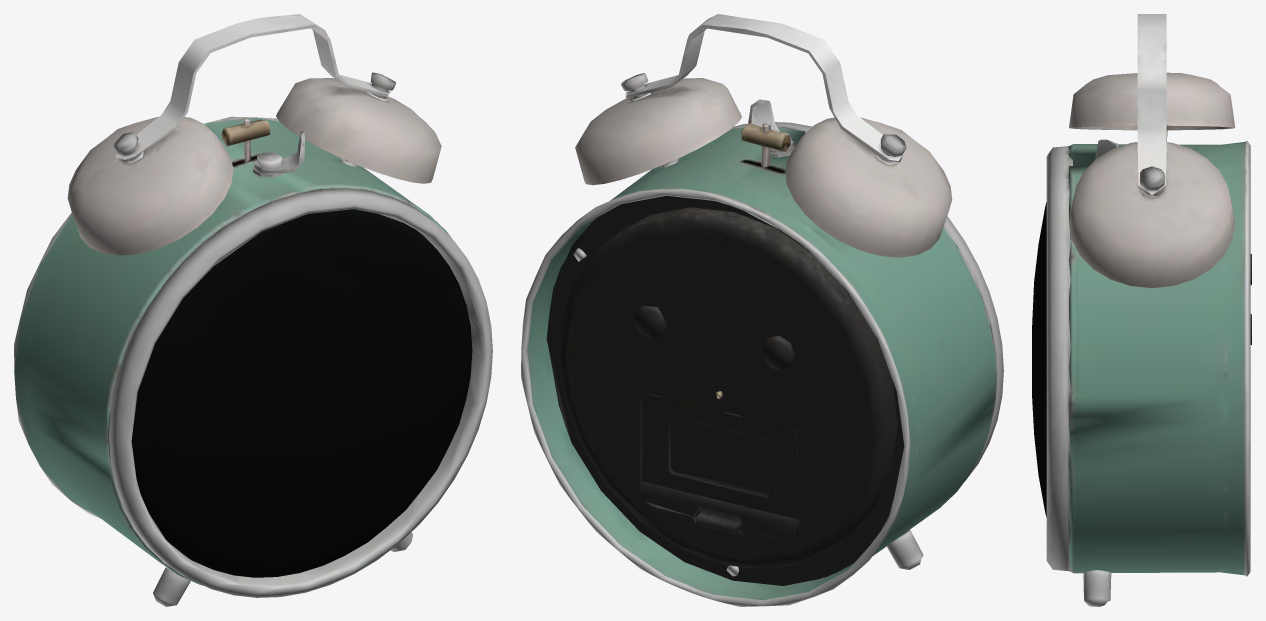
File: alarm_clock_01.glb
The picture shows the model from 3 angles, left to right: view 1: azimuth 30°, elevation 25°; view 2: azimuth 150°, elevation 25°; view 3: azimuth 270°, elevation 25°; orthographic projection. The views are drawn at different scales.
Parts seen in each view (by area): view 1: alarm_clock_01; view 2: alarm_clock_01; view 3: alarm_clock_01.
Part boxes in pixels (<box>): alarm_clock_01: <box>14,14,492,606</box>; alarm_clock_01: <box>521,14,1003,606</box>; alarm_clock_01: <box>1032,14,1251,606</box>.
Bounding box in the file's own units: 0.1312 × 0.1738 × 0.0662.
2 materials, 2 textured.
